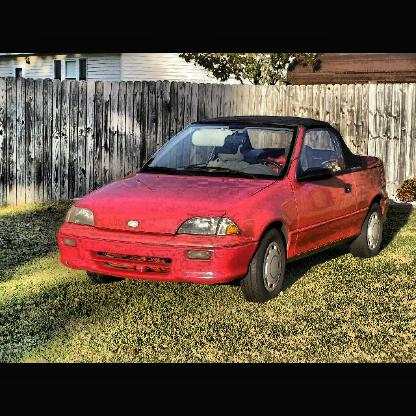Geo Metro Convertible 1993: (58, 116, 390, 305)
